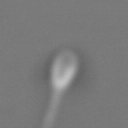normal: (36, 88, 68, 127)
